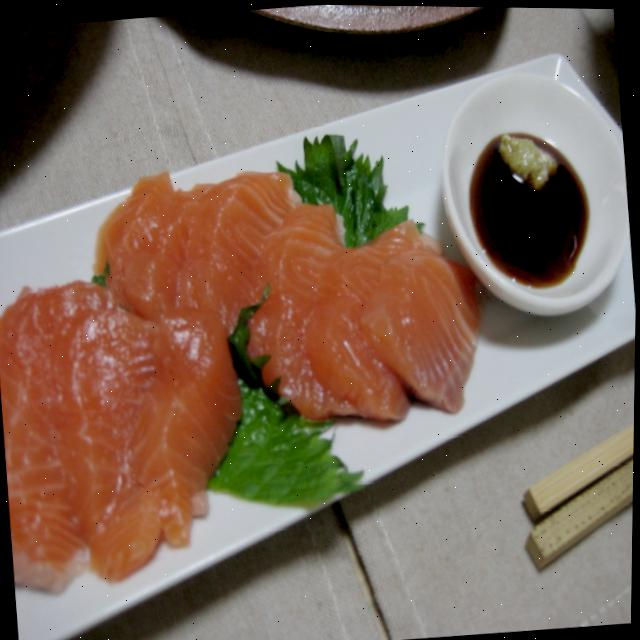刺身生食: (161, 45, 559, 390)
